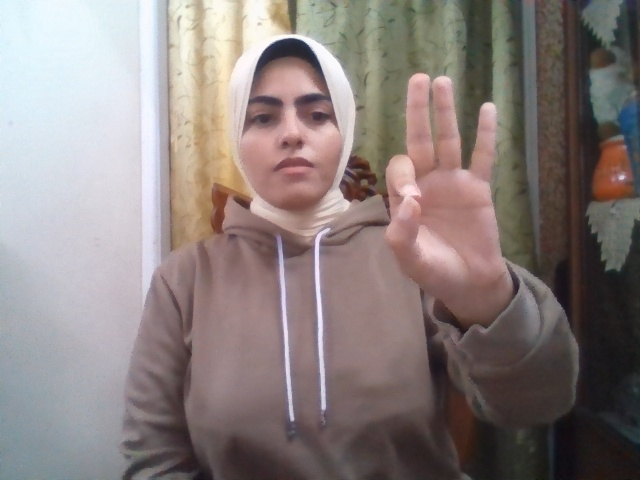F: (385, 73, 505, 300)
